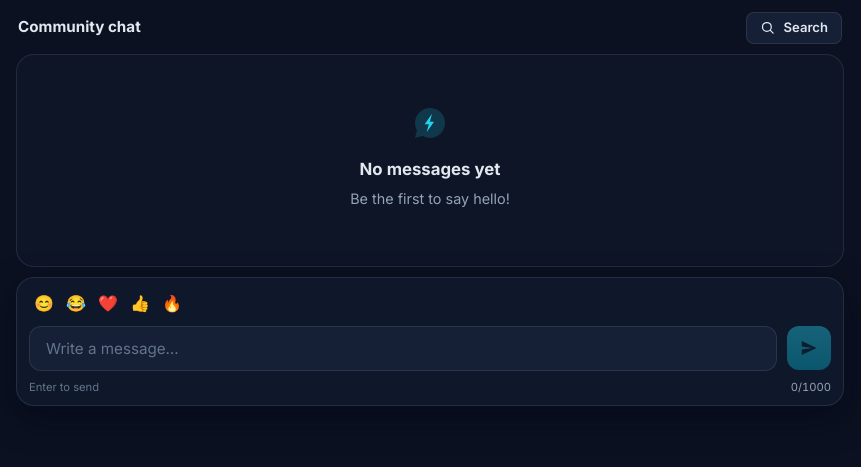
Test: ChatRoom › surfaces a send error
Type "Hello" into the field labelled "message" at point(403, 348), box [29, 326, 777, 370]
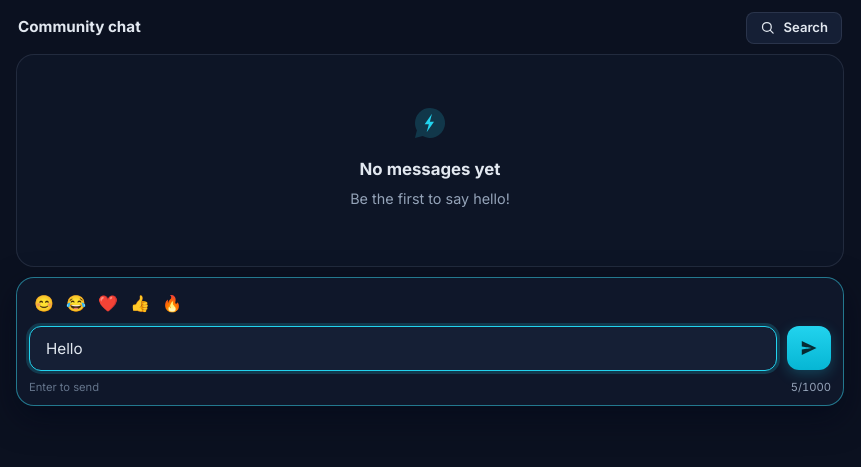
Click the button named "Send message" at point(809, 348), box [787, 326, 831, 370]
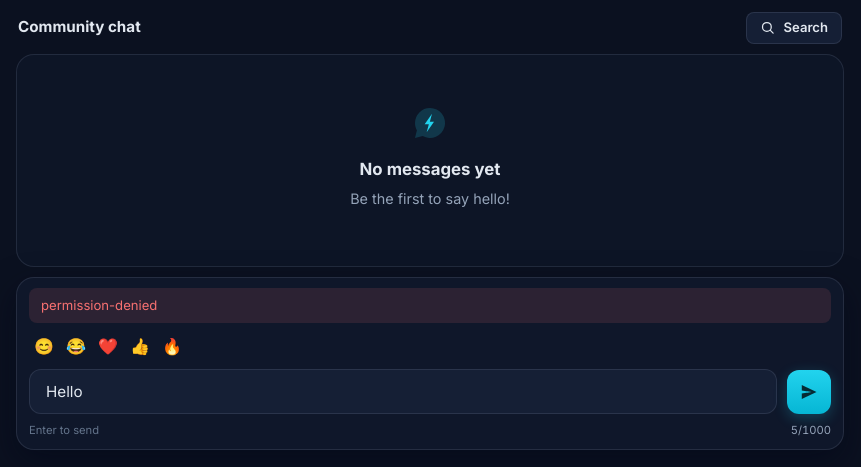
Expected: the message reads "permission-denied", [41, 296, 157, 312]
